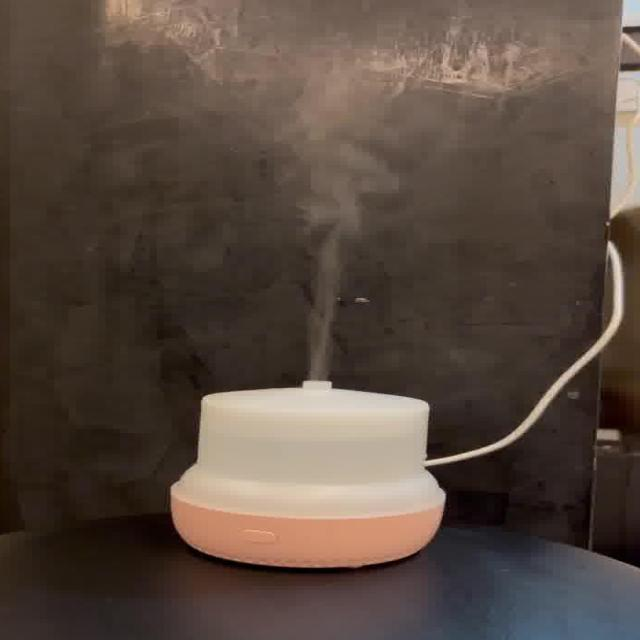fire: (276, 88, 424, 377)
